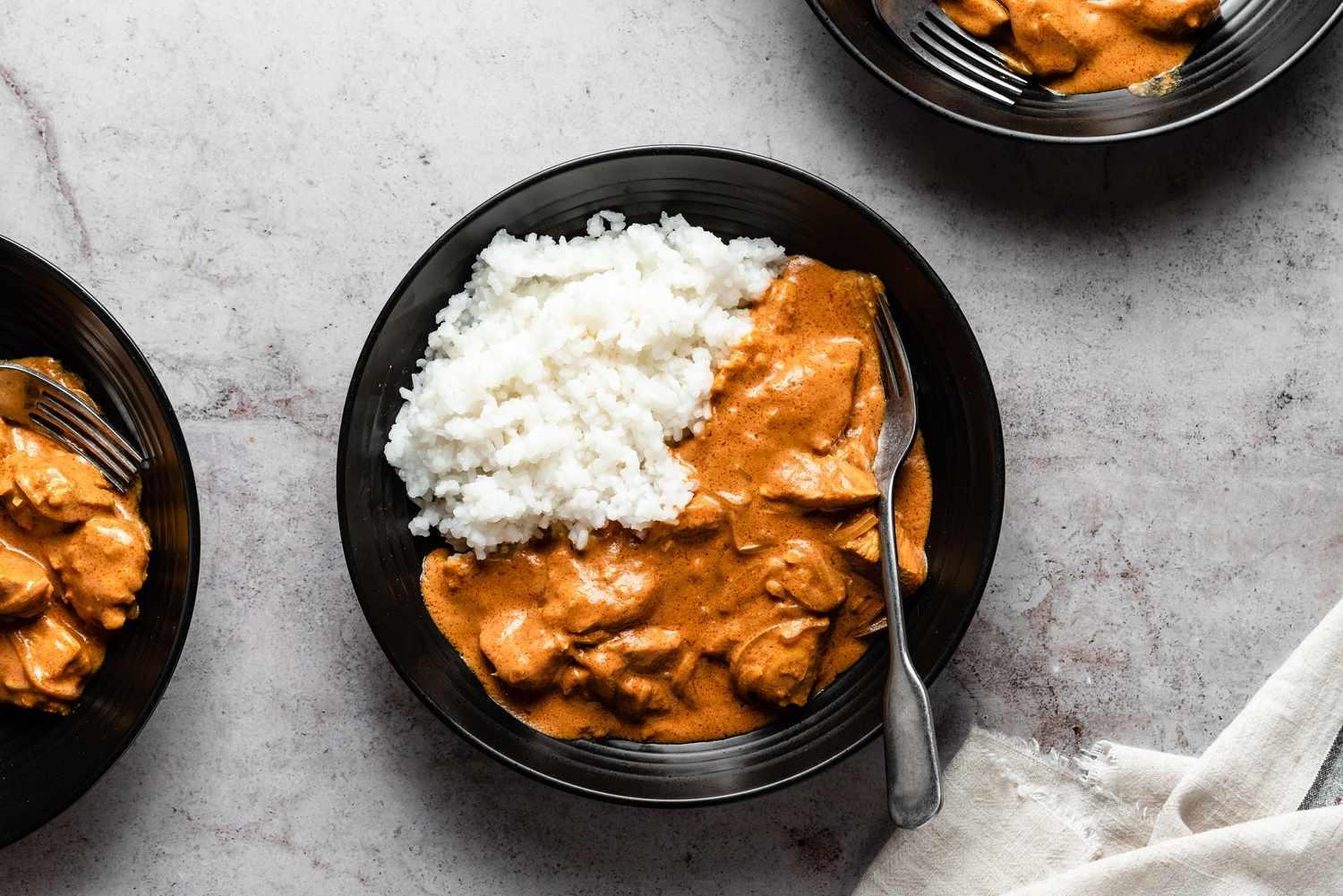chicken: (445, 549, 882, 720), (725, 330, 924, 626), (0, 339, 130, 729)
rice: (452, 247, 705, 530)
